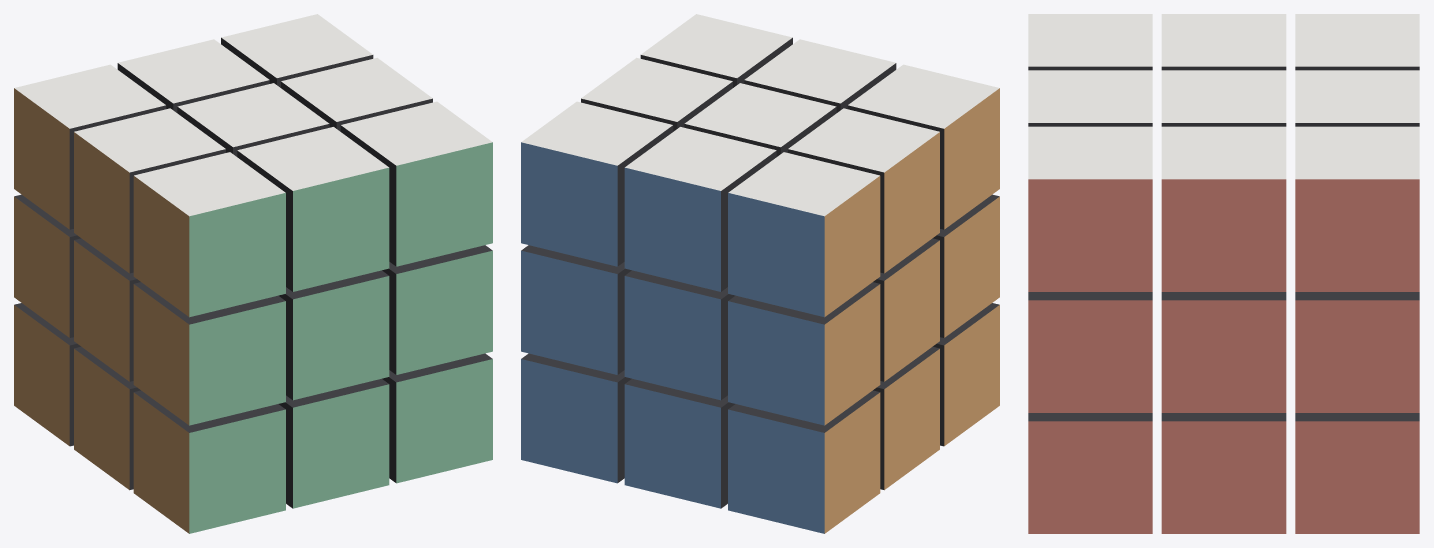
Rendered from rubiks_cube.glb.
3 renders of one model, left to right at view 1: azimuth 30°, elevation 25°; view 2: azimuth 150°, elevation 25°; view 3: azimuth 270°, elevation 25°, orthographic. The views are drawn at different scales.
Parts seen in each view (by area): view 1: cubie_-1_1_1, cubie_-1_-1_1, cubie_-1_0_1, cubie_0_1_1, cubie_1_1_1, cubie_-1_1_-1, cubie_-1_1_0, cubie_0_-1_1, cubie_0_0_1, cubie_1_-1_1, cubie_1_0_1, cubie_-1_0_0 (+7 smaller); view 2: cubie_-1_1_-1, cubie_-1_-1_-1, cubie_-1_0_-1, cubie_0_1_-1, cubie_1_1_-1, cubie_-1_1_1, cubie_-1_1_0, cubie_0_-1_-1, cubie_0_0_-1, cubie_1_-1_-1, cubie_1_0_-1, cubie_-1_0_0 (+7 smaller); view 3: cubie_1_1_0, cubie_1_1_-1, cubie_1_1_1, cubie_1_-1_0, cubie_1_0_0, cubie_1_-1_-1, cubie_1_-1_1, cubie_1_0_-1, cubie_1_0_1, cubie_0_1_0, cubie_-1_1_0, cubie_-1_1_-1 (+3 smaller).
Part boxes in pixels (x1,y1,x2,y2): cubie_-1_1_1: (133,152,285,317); cubie_-1_-1_1: (133,390,285,533); cubie_-1_0_1: (133,282,285,425); cubie_0_1_1: (237,127,389,291); cubie_1_1_1: (340,101,492,266); cubie_-1_1_-1: (14,64,166,229); cubie_-1_1_0: (74,108,225,273); cubie_0_-1_1: (279,378,389,508); cubie_0_0_1: (278,270,389,400); cubie_1_-1_1: (382,353,492,483); cubie_1_0_1: (382,245,492,374); cubie_-1_0_0: (74,238,140,381); cubie_-1_1_-1: (728,152,880,317); cubie_-1_-1_-1: (728,390,880,533); cubie_-1_0_-1: (728,282,880,425); cubie_0_1_-1: (624,127,776,291); cubie_1_1_-1: (521,101,673,266); cubie_-1_1_1: (847,64,999,229); cubie_-1_1_0: (788,108,939,273); cubie_0_-1_-1: (624,378,734,508); cubie_0_0_-1: (624,270,735,400); cubie_1_-1_-1: (521,353,631,483); cubie_1_0_-1: (521,245,631,374); cubie_-1_0_0: (873,238,939,381); cubie_1_1_0: (1161,126,1286,291); cubie_1_1_-1: (1295,126,1419,291); cubie_1_1_1: (1028,126,1152,291); cubie_1_-1_0: (1161,413,1286,533); cubie_1_0_0: (1161,292,1286,412); cubie_1_-1_-1: (1295,413,1419,533); cubie_1_-1_1: (1028,413,1152,533); cubie_1_0_-1: (1295,292,1419,412); cubie_1_0_1: (1028,292,1152,412); cubie_0_1_0: (1161,70,1286,126); cubie_-1_1_0: (1161,14,1286,70); cubie_-1_1_-1: (1295,14,1419,70).
Size of the model in its own units: 3.02 by 3.02 by 3.02.
